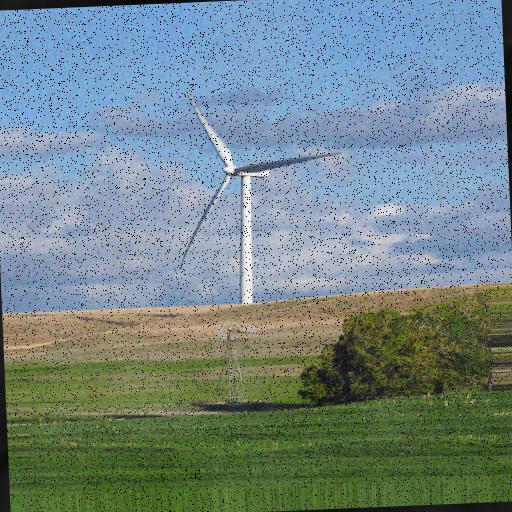wind turbine: (178, 90, 344, 299)
